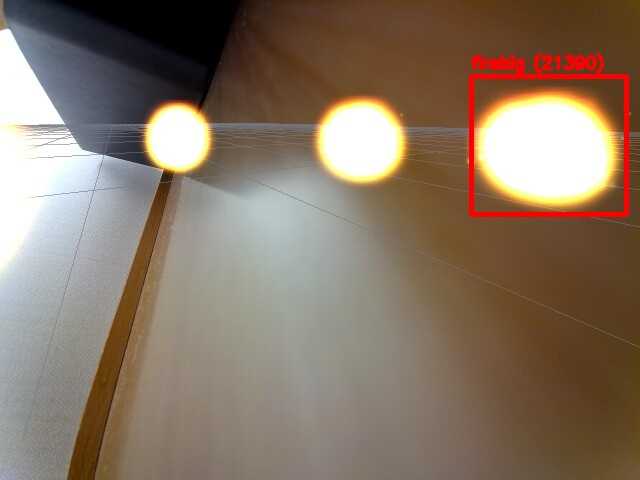firebig: (471, 76, 626, 214)
